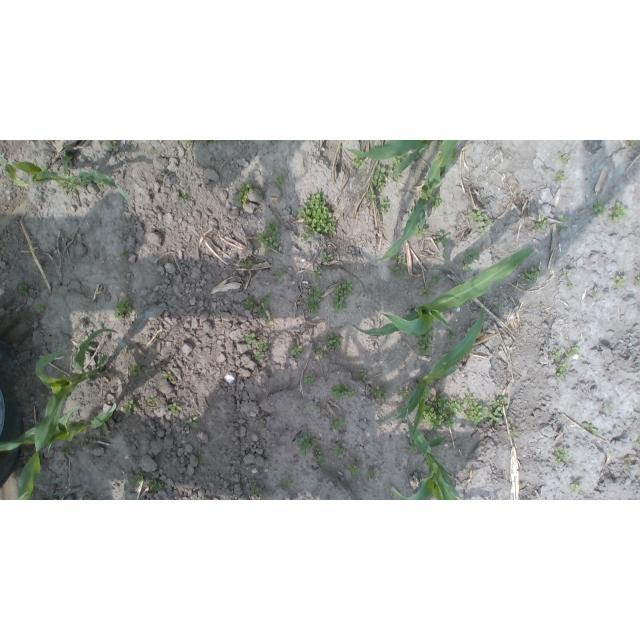Maize: (17, 329, 116, 500), (351, 248, 534, 335), (377, 310, 487, 436), (375, 140, 462, 261), (390, 409, 460, 500), (0, 155, 132, 203), (0, 404, 118, 451), (347, 140, 434, 176)
Weeds: (296, 189, 336, 236), (420, 395, 465, 429), (464, 392, 508, 423), (256, 220, 280, 252), (334, 278, 355, 312), (470, 211, 493, 237), (297, 436, 319, 457), (332, 382, 357, 400), (307, 287, 323, 315), (236, 181, 253, 206), (609, 203, 628, 224), (114, 297, 132, 319), (418, 329, 433, 355), (373, 165, 386, 191), (591, 199, 609, 217), (554, 446, 571, 465), (258, 295, 272, 316), (390, 155, 406, 173), (148, 476, 166, 492), (523, 267, 541, 282), (280, 476, 296, 492), (327, 333, 344, 348), (131, 469, 144, 488), (315, 448, 328, 467), (58, 180, 73, 196), (346, 460, 361, 476), (556, 363, 569, 381), (462, 248, 481, 260), (353, 155, 368, 169), (373, 385, 388, 399), (582, 422, 599, 434), (566, 345, 580, 359), (535, 215, 549, 229), (330, 415, 344, 429), (241, 296, 256, 309), (59, 443, 73, 456), (436, 231, 449, 245), (128, 364, 142, 377), (334, 444, 347, 458), (303, 373, 316, 387), (289, 344, 303, 357), (185, 417, 200, 429), (377, 199, 389, 213), (391, 255, 407, 265), (275, 172, 285, 188), (570, 481, 583, 493), (552, 348, 563, 362), (422, 284, 433, 298), (390, 267, 404, 278), (321, 252, 332, 266), (431, 195, 442, 208), (251, 484, 262, 497), (408, 438, 418, 452), (35, 303, 47, 314), (257, 340, 269, 351), (244, 333, 256, 344), (272, 267, 283, 279), (399, 389, 411, 400), (168, 403, 181, 413), (557, 152, 568, 163), (615, 276, 625, 288), (108, 140, 120, 150), (17, 283, 27, 295), (357, 368, 367, 380), (627, 139, 640, 148), (124, 400, 133, 413), (182, 189, 189, 204), (451, 149, 459, 162), (448, 328, 456, 341), (240, 260, 253, 268), (312, 268, 320, 281), (367, 190, 377, 200), (367, 470, 377, 480), (254, 351, 264, 361), (81, 438, 90, 449), (162, 372, 172, 381), (432, 274, 441, 284), (416, 228, 426, 237), (508, 428, 518, 437), (623, 458, 632, 467), (556, 172, 565, 181), (558, 215, 569, 222), (299, 234, 310, 241), (120, 251, 129, 259), (316, 346, 325, 354), (593, 286, 600, 296), (265, 316, 275, 323), (204, 140, 217, 145), (464, 264, 472, 272), (192, 457, 202, 463), (498, 301, 506, 308), (48, 444, 55, 452), (562, 270, 572, 275), (394, 174, 401, 181), (150, 396, 157, 403), (184, 140, 192, 146), (259, 424, 264, 433), (607, 405, 613, 412), (107, 417, 113, 424), (567, 283, 573, 290), (634, 440, 640, 447), (96, 181, 104, 186), (315, 405, 321, 411), (636, 276, 640, 284), (104, 431, 110, 436), (73, 186, 79, 191), (483, 310, 487, 317), (455, 282, 462, 286), (436, 140, 443, 144), (201, 496, 207, 500), (520, 484, 525, 488)
